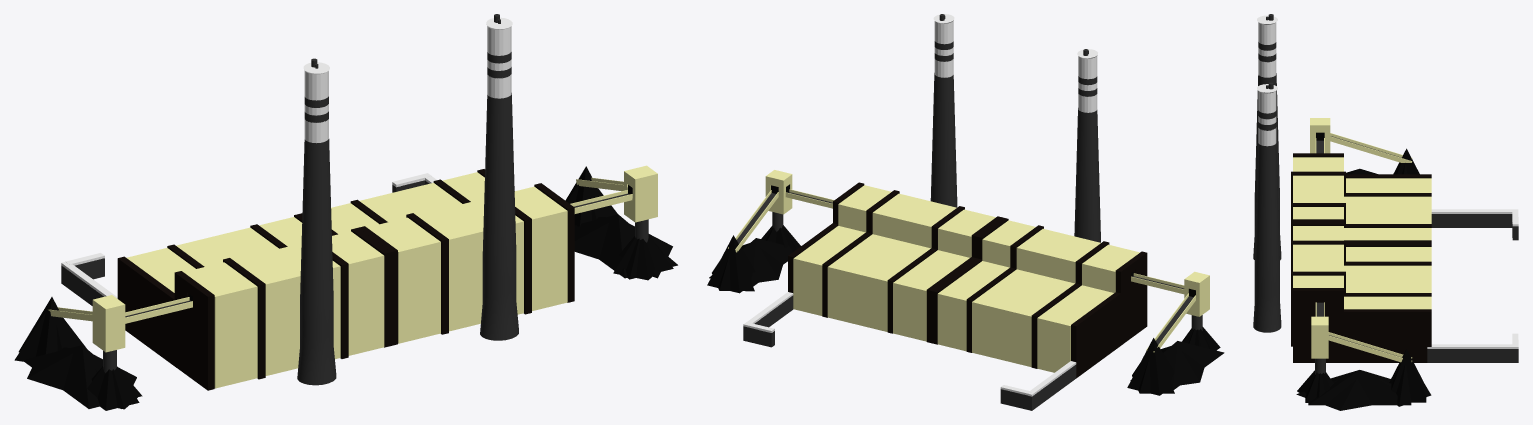
Rendered from Coal Plant 2.FBX.
The picture shows the model from 3 angles, left to right: view 1: azimuth 30°, elevation 25°; view 2: azimuth 150°, elevation 25°; view 3: azimuth 270°, elevation 25°; orthographic projection. The views are drawn at different scales.
Visible parts, largest first — view 1: Coal Plant II; view 2: Coal Plant II; view 3: Coal Plant II.
Boxes of the visible parts, x1=… form: Coal Plant II: x1=14, y1=14, x2=677, y2=410; Coal Plant II: x1=707, y1=14, x2=1224, y2=410; Coal Plant II: x1=1253, y1=14, x2=1518, y2=410.
Size of the model in its own units: 180 by 88.47 by 86.83.
